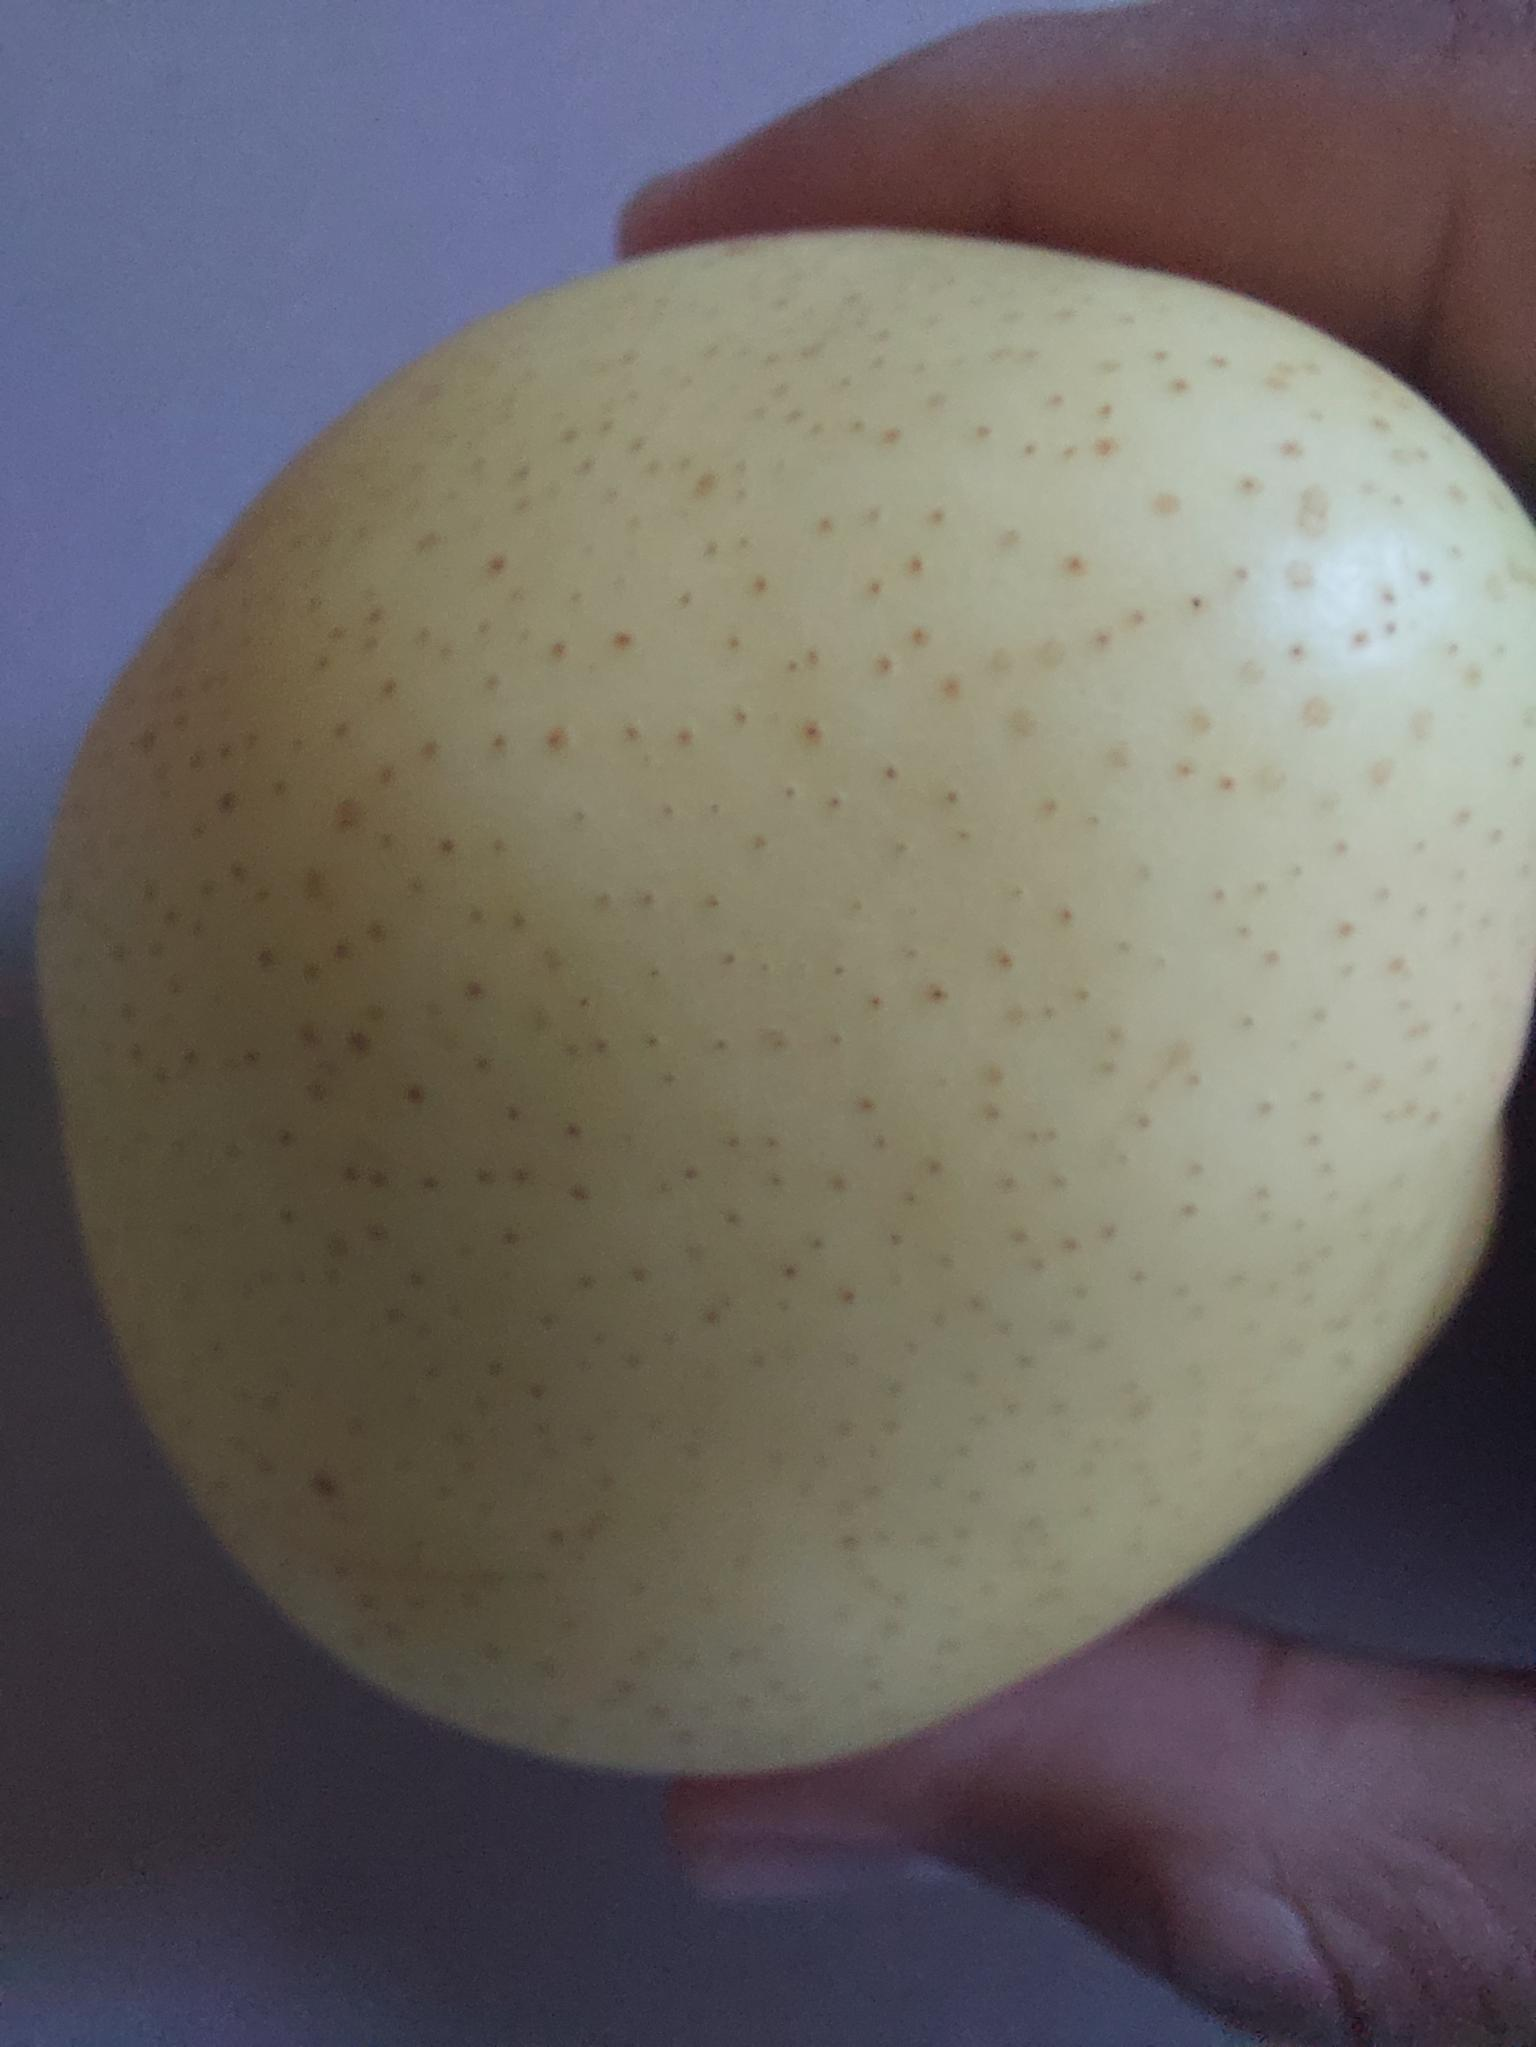Good Pear: (60, 208, 1536, 1782)
